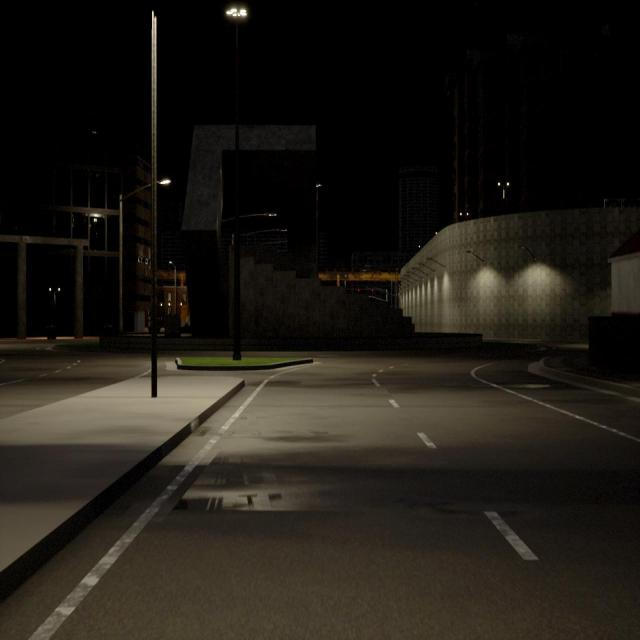traffic_light: (357, 288, 360, 292), (373, 296, 376, 299), (372, 288, 374, 292), (369, 296, 370, 298)
